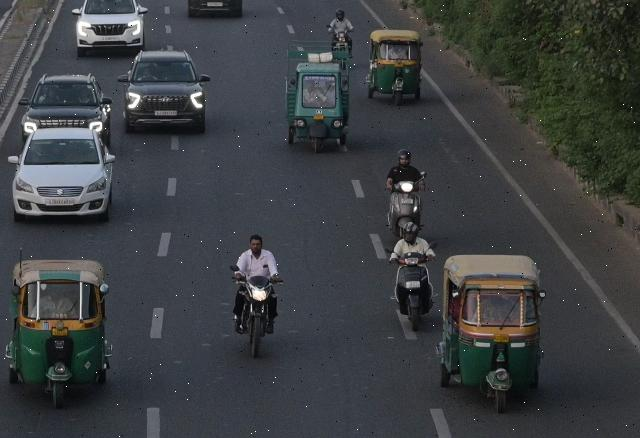With Helmet: (398, 222, 420, 248), (398, 148, 414, 168), (335, 9, 347, 21)
Without Helmet: (248, 234, 264, 252)
